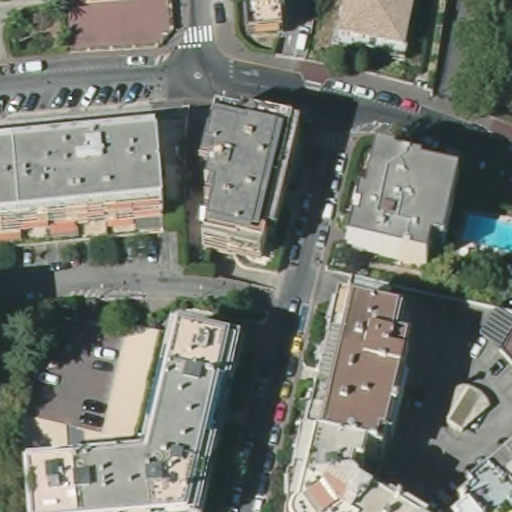pool: (457, 211, 512, 250)
